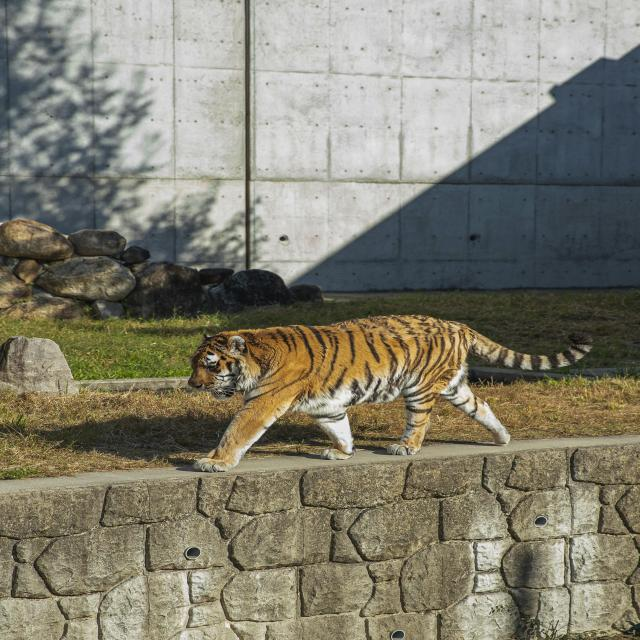Tiger: (190, 316, 593, 471)
